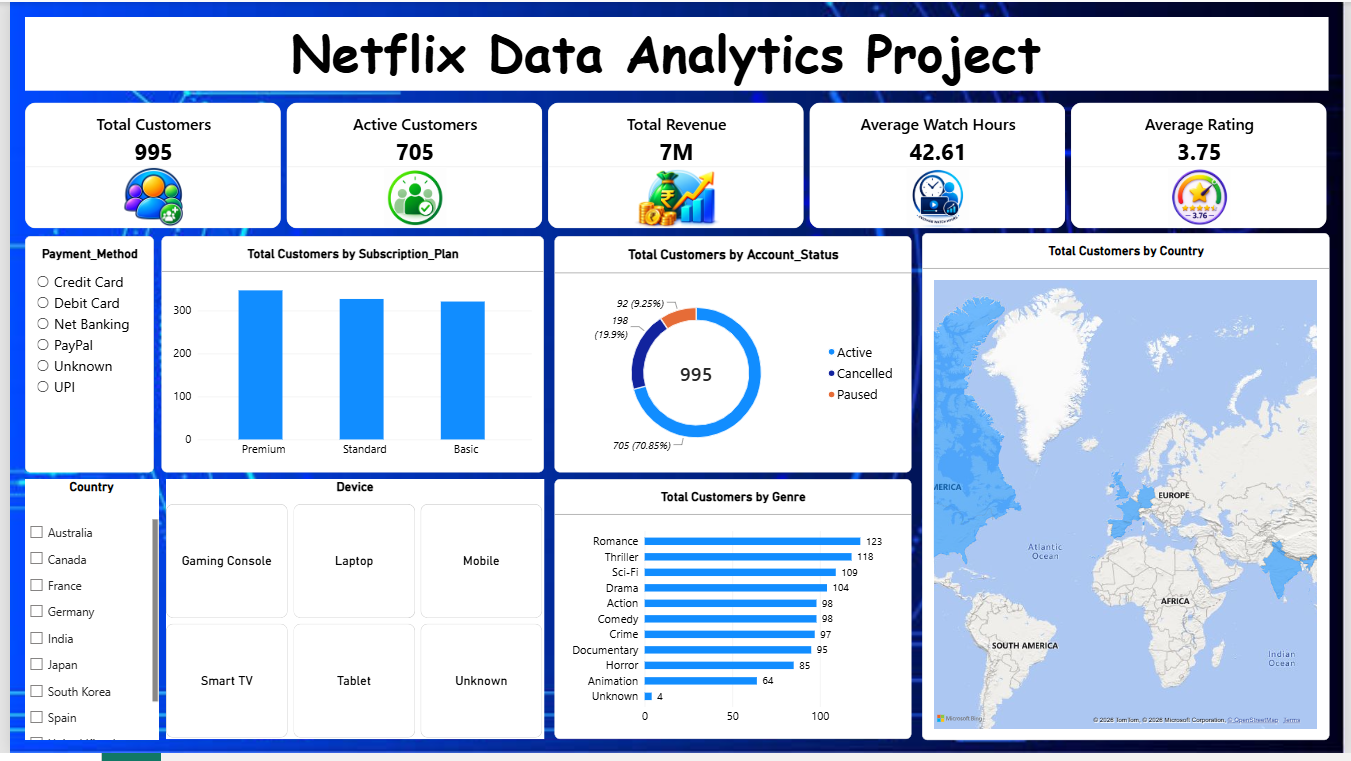

The page's visual inventory and layout, read from the dashboard file:
{"tool":"powerbi","page":{"name":"Page 1","canvas":[1920,1080],"ordinal":0},"visuals":[{"type":"textbox","box":[21.3,21.3,1874.4,106.3],"z":0},{"type":"cardVisual","fields":{"Data":["Dax_Measure.Total Customers","Dax_Measure.Active Customers","Dax_Measure.Total Revenue","Dax_Measure.Average Watch Hours","Dax_Measure.Average Rating"]},"box":[21.6,144.5,1876.7,181.2],"z":1},{"type":"clusteredColumnChart","fields":{"Category":["netflix_customers.Subscription_Plan"],"Y":["Dax_Measure.Total Customers"]},"box":[218.7,337.2,549.9,340.3],"z":2},{"type":"filledMap","fields":{"Category":["netflix_customers.Country"]},"box":[1312.4,331.1,586.3,729.1],"z":3},{"type":"donutChart","title":"Total Customers by Account_Status","fields":{"Category":["netflix_customers.Account_Status"],"Y":["Dax_Measure.Total Customers"]},"box":[783.8,337.2,513.4,340.3],"z":4},{"type":"advancedSlicerVisual","fields":{"Values":["netflix_customers.Device"]},"box":[224.8,686.6,543.8,373.7],"z":5},{"type":"listSlicer","fields":{"Values":["netflix_customers.Payment_Method"]},"box":[21.3,337.2,185.3,340.3],"z":6},{"type":"slicer","title":"Country","fields":{"Values":["netflix_customers.Country"]},"box":[21.3,686.6,191.4,373.7],"z":7},{"type":"clusteredBarChart","fields":{"Category":["netflix_customers.Genre"],"Y":["Dax_Measure.Total Customers"]},"box":[784,687,513,374],"z":8}]}

Visuals, with their boxes in screenshot pixels (x1, y1, x2, y2), scaled from the page's 1920x1080 canvas onto the 1351x761 screenshot:
textbox: left=15, top=15, right=1334, bottom=90
cardVisual - Dax_Measure.Total Customers x Dax_Measure.Active Customers: left=15, top=102, right=1336, bottom=229
clusteredColumnChart - netflix_customers.Subscription_Plan x Dax_Measure.Total Customers: left=154, top=238, right=541, bottom=477
filledMap - netflix_customers.Country: left=923, top=233, right=1336, bottom=747
"Total Customers by Account_Status" donutChart: left=552, top=238, right=913, bottom=477
advancedSlicerVisual - netflix_customers.Device: left=158, top=484, right=541, bottom=747
listSlicer - netflix_customers.Payment_Method: left=15, top=238, right=145, bottom=477
"Country" slicer: left=15, top=484, right=150, bottom=747
clusteredBarChart - netflix_customers.Genre x Dax_Measure.Total Customers: left=552, top=484, right=913, bottom=748
